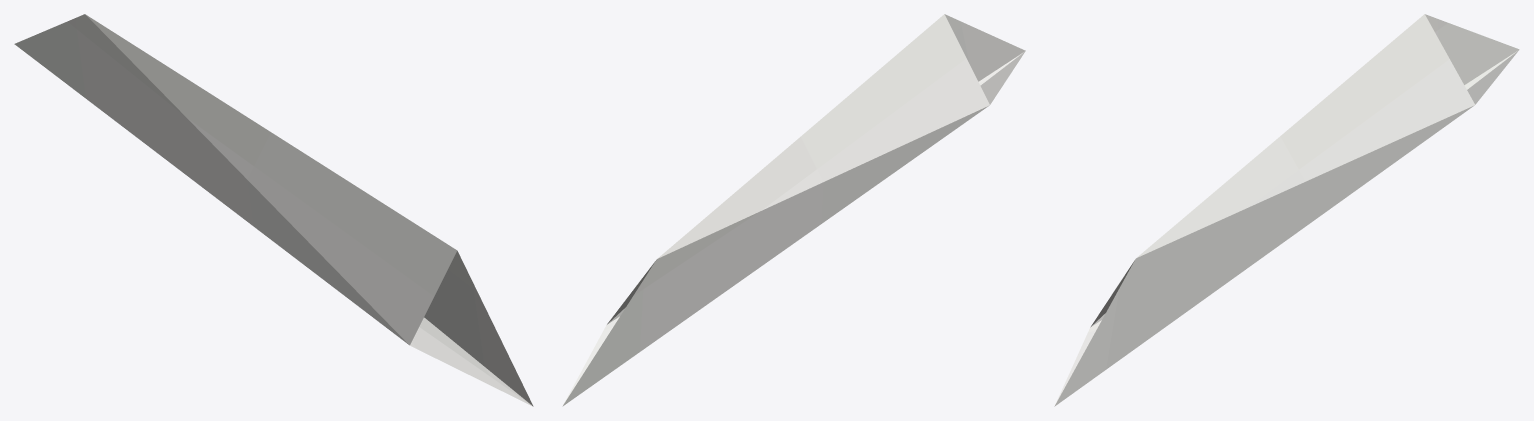
Rendered from srqpj024-geode.glb.
3 renders of one model, left to right at view 1: azimuth 30°, elevation 25°; view 2: azimuth 150°, elevation 25°; view 3: azimuth 330°, elevation 25°, orthographic. The views are drawn at different scales.
Parts seen in each view (by area): view 1: Node; view 2: Node; view 3: Node.
Part boxes in pixels (bbox=[...]): Node: bbox=[14, 14, 533, 406]; Node: bbox=[562, 14, 1025, 406]; Node: bbox=[1054, 14, 1519, 406].
Bounding box in the file's own units: 0.15 × 0.2156 × 2.03.
1 material, 1 textured.
